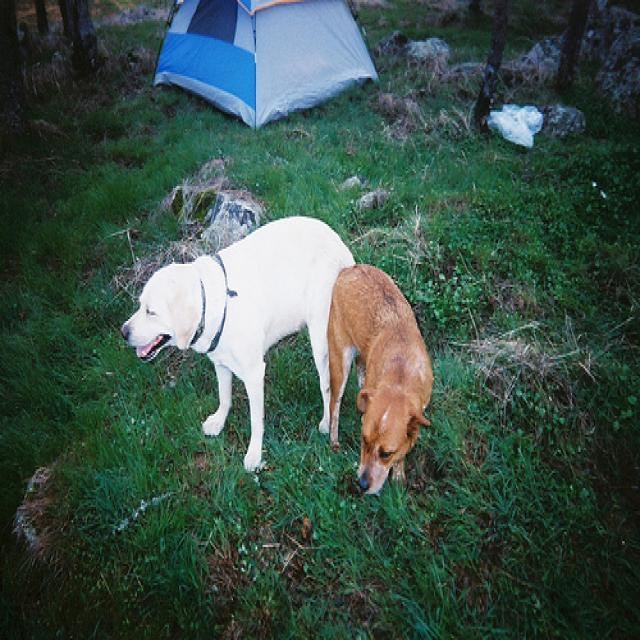dog: (123, 212, 358, 474), (325, 259, 436, 499)
